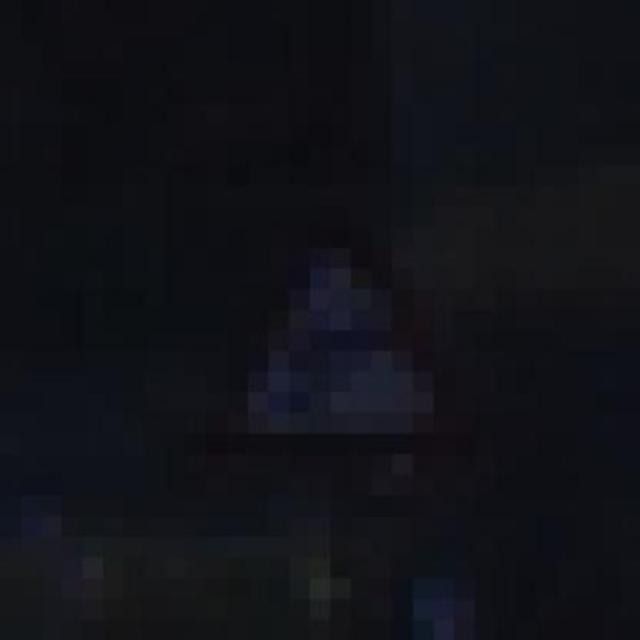Dangerous Rright Curve Ahead: (145, 165, 537, 537)
